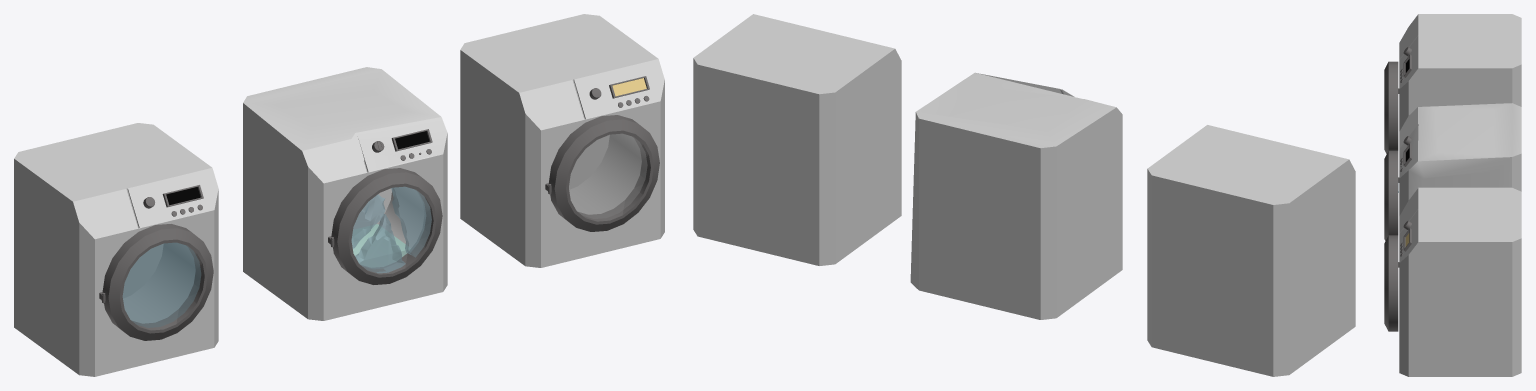
Rendered from washing machines.fbx.
3 renders of one model, left to right at view 1: azimuth 30°, elevation 25°; view 2: azimuth 150°, elevation 25°; view 3: azimuth 270°, elevation 25°, orthographic. The views are drawn at different scales.
Visible parts, largest first — view 1: pCube30, pCube25, pCube28, pCylinder36, pCylinder5, pCylinder28, pCylinder6, pCylinder35, shard2, pCube31, shard5, shard6 (+3 smaller); view 2: pCube25, pCube30, pCube28; view 3: pCube30, pCube25, pCube28, pCylinder36, pCylinder5, pCylinder28, pCube27, pCube29, pCube26.
Boxes of the visible parts, x1,y1,x2,y2 form: pCube30: (460,14,664,267); pCube25: (14,123,218,376); pCube28: (243,67,447,320); pCylinder36: (548,115,659,231); pCylinder5: (102,224,213,340); pCylinder28: (331,168,442,284); pCylinder6: (122,242,201,327); pCylinder35: (569,133,647,218); shard2: (391,186,431,257); pCube31: (352,224,410,266); shard5: (355,213,405,273); shard6: (351,194,385,248); pCube25: (1147,125,1355,376); pCube30: (693,14,901,265); pCube28: (910,72,1122,319); pCube30: (1399,187,1521,376); pCube25: (1399,14,1521,131); pCube28: (1399,103,1521,215); pCylinder36: (1384,235,1398,331); pCylinder5: (1384,61,1398,153); pCylinder28: (1384,150,1398,240); pCube27: (1403,144,1412,166); pCube29: (1403,228,1411,251); pCube26: (1403,54,1411,77).
Size of the model in its own units: 2330 by 664 by 592.
